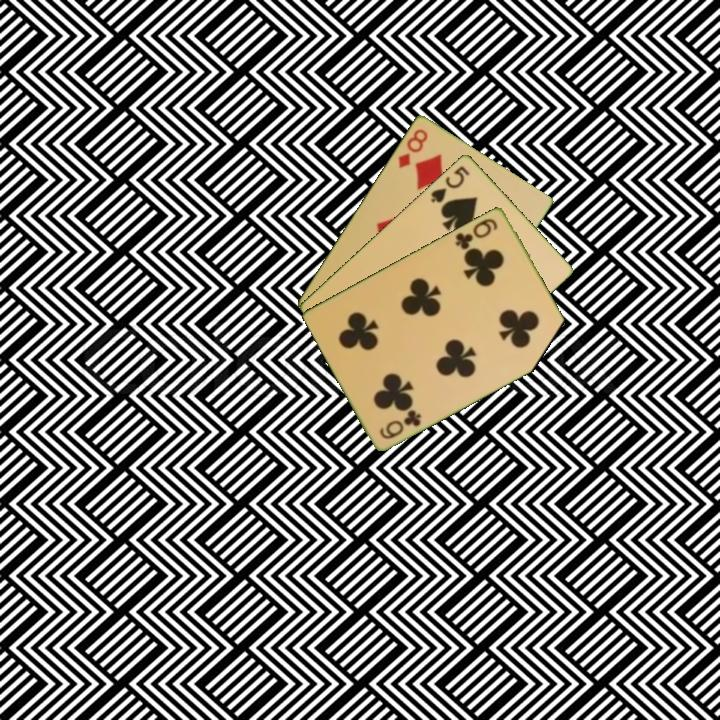5s: (427, 162, 472, 206)
6c: (452, 214, 501, 252), (376, 406, 424, 442)
8d: (394, 125, 431, 171)
